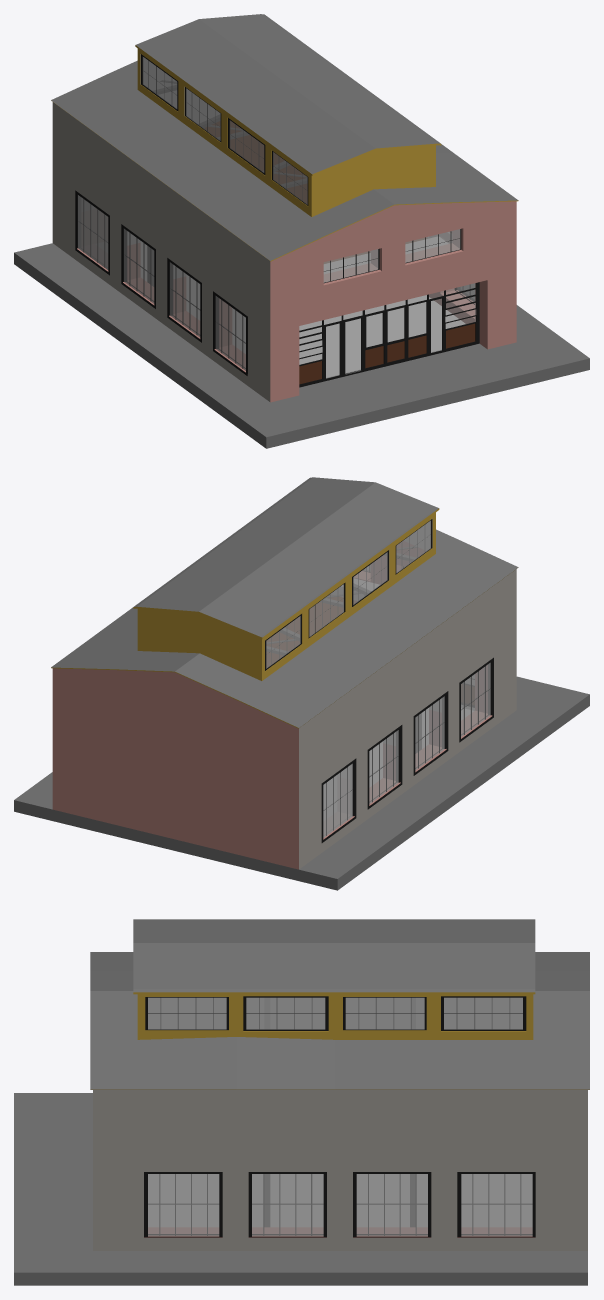
The model's file is hifi.fbx.
The picture shows the model from 3 angles, top to bottom: view 1: azimuth 30°, elevation 25°; view 2: azimuth 150°, elevation 25°; view 3: azimuth 270°, elevation 25°; orthographic projection. The views are drawn at different scales.
Visible parts, largest first — view 1: walls_Plane, roof_Plane.001, front_door_Plane.002, Cube.003_Cube.011, Cube.002_Cube.010, Cube.004_Cube.012, Cube.000_Cube.009, Cube.001_Cube.007, Cube.017_Cube.025, Cube.018_Cube.026, Cube.008_Cube.016, Cube.006_Cube.014 (+3 smaller); view 2: walls_Plane, roof_Plane.001, Cube.003_Cube.011, Cube.002_Cube.010, Cube.000_Cube.009, Cube.004_Cube.012, Cube.001_Cube.007, Cube.008_Cube.016, Cube.006_Cube.014, Cube.007_Cube.015, Cube.005_Cube.013, steel_beams_Cube; view 3: walls_Plane, roof_Plane.001, Cube.013_Cube.021, Cube.014_Cube.022, Cube.016_Cube.024, Cube.015_Cube.023, Cube.009_Cube.017, Cube.011_Cube.019, Cube.010_Cube.018, Cube.012_Cube.020, steel_beams_Cube.
Boxes of the visible parts, x1=… form: walls_Plane: x1=14, y1=77, x2=589, y2=448; roof_Plane.001: x1=51, y1=14, x2=518, y2=261; front_door_Plane.002: x1=299, y1=282, x2=479, y2=387; Cube.003_Cube.011: x1=167, y1=258, x2=201, y2=342; Cube.002_Cube.010: x1=121, y1=224, x2=155, y2=308; Cube.004_Cube.012: x1=213, y1=291, x2=247, y2=375; Cube.000_Cube.009: x1=75, y1=190, x2=109, y2=275; Cube.001_Cube.007: x1=78, y1=195, x2=107, y2=269; Cube.017_Cube.025: x1=405, y1=229, x2=461, y2=263; Cube.018_Cube.026: x1=323, y1=248, x2=379, y2=283; Cube.008_Cube.016: x1=141, y1=54, x2=178, y2=111; Cube.006_Cube.014: x1=228, y1=118, x2=265, y2=174; walls_Plane: x1=14, y1=541, x2=589, y2=890; roof_Plane.001: x1=51, y1=477, x2=518, y2=728; Cube.003_Cube.011: x1=413, y1=691, x2=448, y2=775; Cube.002_Cube.010: x1=367, y1=725, x2=402, y2=809; Cube.000_Cube.009: x1=321, y1=758, x2=356, y2=842; Cube.004_Cube.012: x1=459, y1=657, x2=493, y2=742; Cube.001_Cube.007: x1=323, y1=764, x2=352, y2=837; Cube.008_Cube.016: x1=265, y1=614, x2=301, y2=670; Cube.006_Cube.014: x1=352, y1=550, x2=388, y2=606; Cube.007_Cube.015: x1=308, y1=583, x2=345, y2=638; Cube.005_Cube.013: x1=395, y1=519, x2=432, y2=574; steel_beams_Cube: x1=266, y1=546, x2=421, y2=753; walls_Plane: x1=14, y1=998, x2=587, y2=1285; roof_Plane.001: x1=90, y1=919, x2=589, y2=1089; Cube.013_Cube.021: x1=144, y1=1172, x2=222, y2=1237; Cube.014_Cube.022: x1=248, y1=1172, x2=326, y2=1237; Cube.016_Cube.024: x1=457, y1=1172, x2=535, y2=1237; Cube.015_Cube.023: x1=353, y1=1172, x2=431, y2=1237; Cube.009_Cube.017: x1=441, y1=996, x2=526, y2=1030; Cube.011_Cube.019: x1=243, y1=996, x2=328, y2=1030; Cube.010_Cube.018: x1=343, y1=997, x2=426, y2=1030; Cube.012_Cube.020: x1=145, y1=997, x2=228, y2=1030; steel_beams_Cube: x1=264, y1=998, x2=415, y2=1226.
Size of the model in its own units: 5.25 by 3.45 by 7.11.
